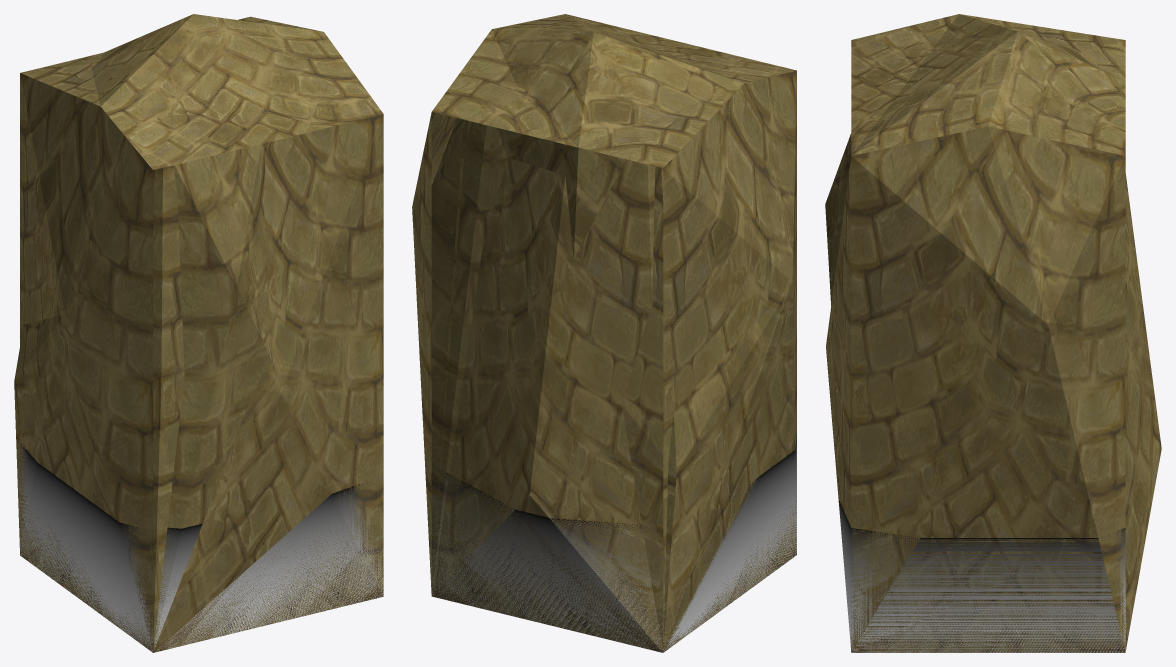
Rendered from BlockTerrain.fbx.
The picture shows the model from 3 angles, left to right: view 1: azimuth 30°, elevation 25°; view 2: azimuth 150°, elevation 25°; view 3: azimuth 270°, elevation 25°; orthographic projection. The views are drawn at different scales.
Visible parts, largest first — view 1: Corner_2, Side_1, AO (×4), Side_4, Side_3, Side_2; view 2: Side_4, Side_3, Side_1, AO (×3), Side_2; view 3: Side_2, AO (×2), Side_3, Side_4, Side_1, Corner_2.
Part boxes in pixels (bbox=[...]): Corner_2: bbox=[153, 114, 383, 652]; Side_1: bbox=[20, 73, 383, 652]; AO (×4): bbox=[17, 443, 383, 651]; Side_4: bbox=[21, 143, 272, 651]; Side_3: bbox=[14, 14, 383, 553]; Side_2: bbox=[21, 16, 321, 106]; Side_4: bbox=[431, 150, 796, 652]; Side_3: bbox=[431, 14, 792, 651]; Side_1: bbox=[567, 14, 796, 652]; AO (×3): bbox=[431, 434, 796, 652]; Side_2: bbox=[412, 29, 743, 593]; Side_2: bbox=[851, 14, 1125, 652]; AO (×2): bbox=[838, 499, 1125, 652]; Side_3: bbox=[851, 14, 1125, 155]; Side_4: bbox=[825, 133, 1161, 650]; Side_1: bbox=[851, 14, 958, 155]; Corner_2: bbox=[826, 157, 851, 651].
Bounding box in the file's own units: 14.29 × 22.8 × 12.27.
2 materials, 1 textured.
